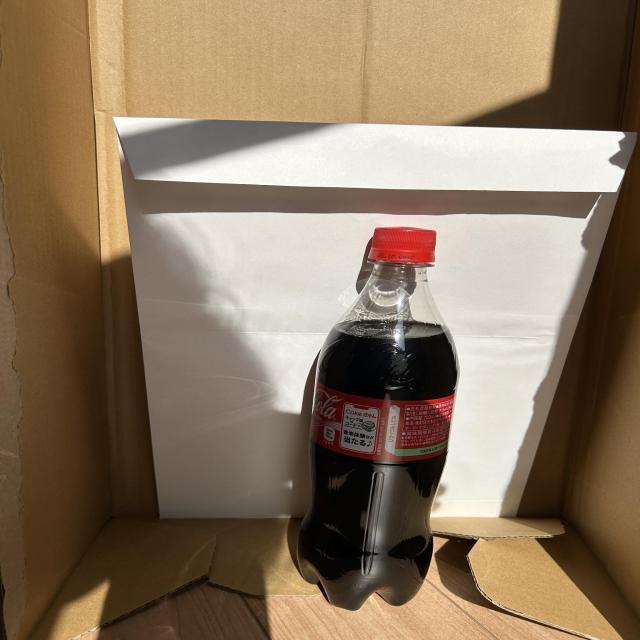high: (297, 226, 458, 609)
